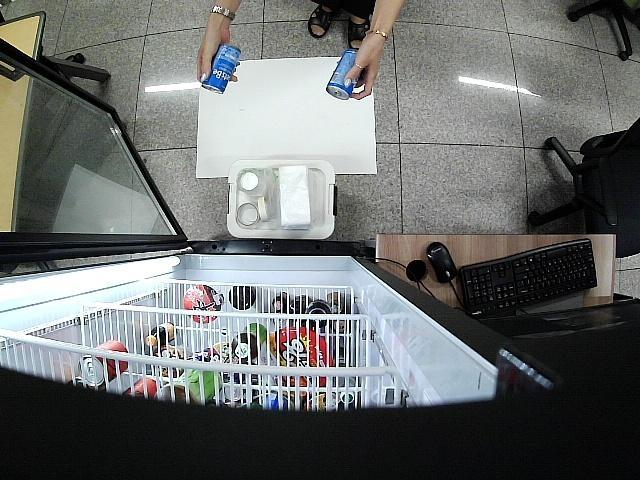15_letsbe: (202, 44, 240, 93), (326, 49, 362, 100)
